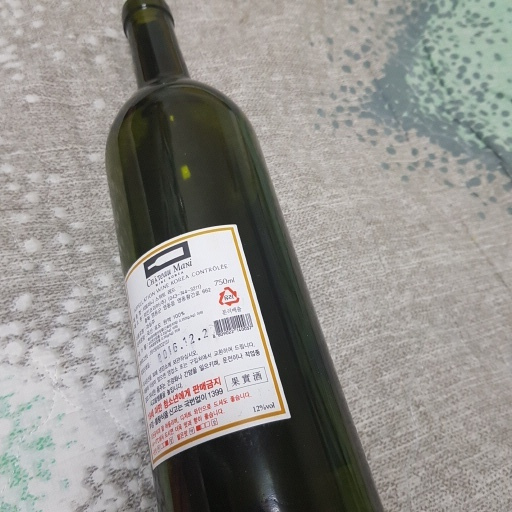Glass_2: (104, 2, 386, 512)
